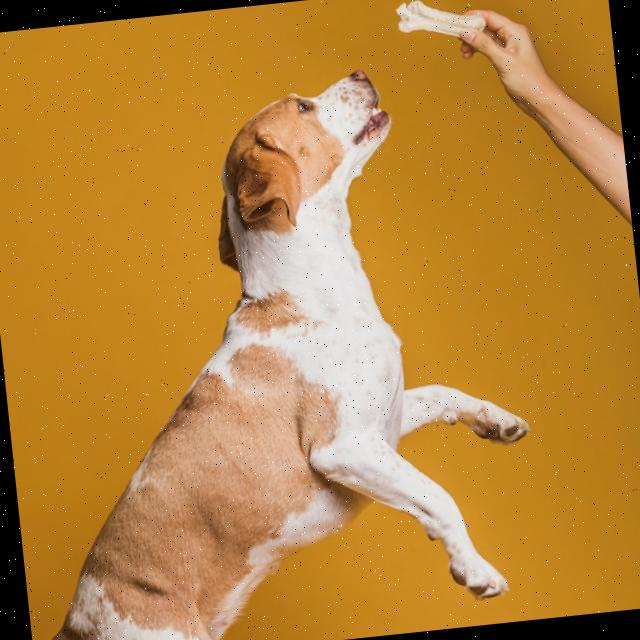Dog: (0, 53, 553, 640)
